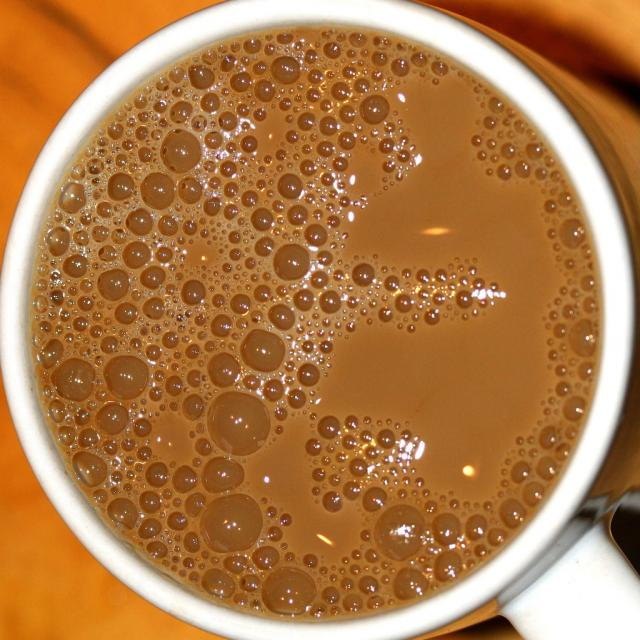Coffee: (35, 28, 604, 621)
